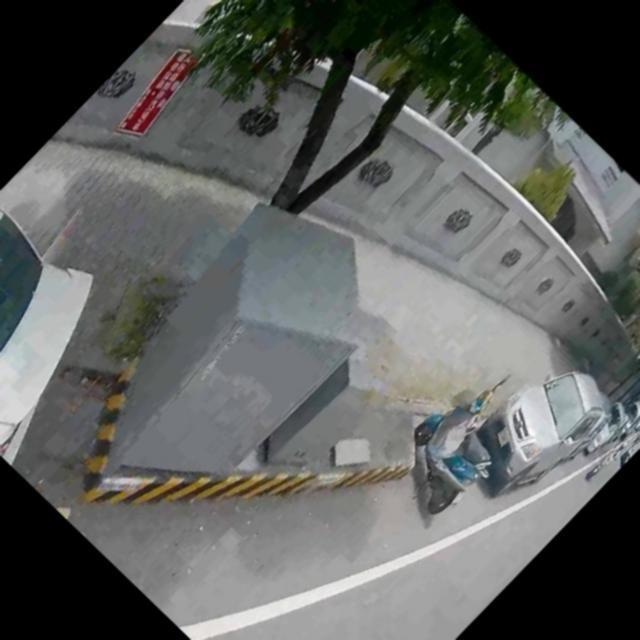person: (607, 438, 629, 460)
